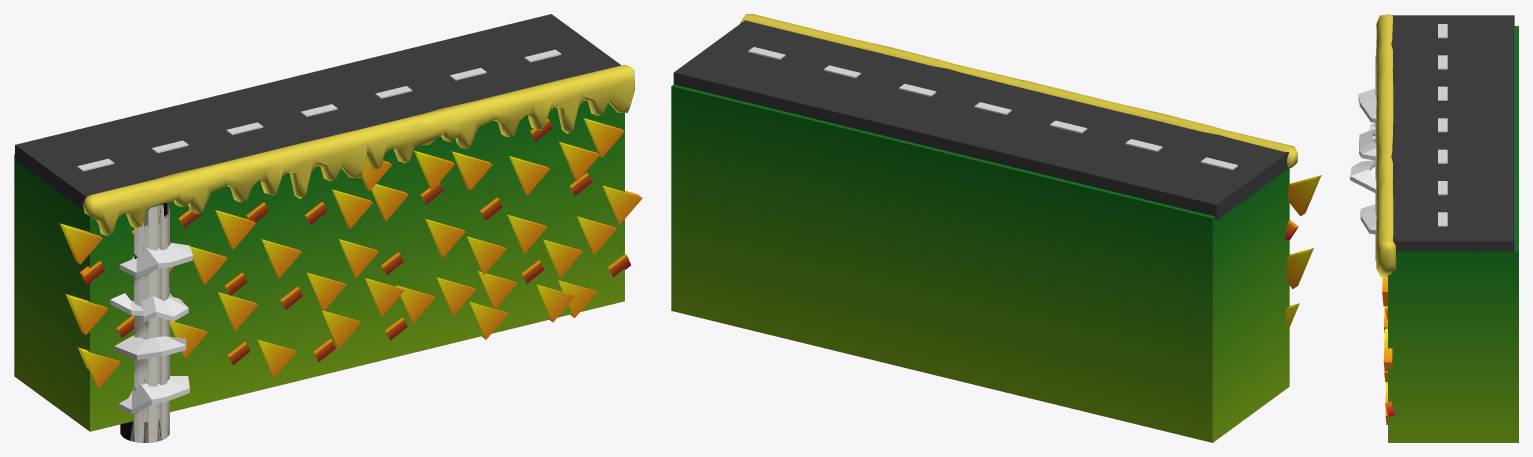
File: streetplate3.glb
3 renders of one model, left to right at view 1: azimuth 30°, elevation 25°; view 2: azimuth 150°, elevation 25°; view 3: azimuth 270°, elevation 25°, orthographic. The views are drawn at different scales.
Visible parts, largest first — view 1: street plate 1.003, street plate 1.005, street plate 1.001, street plate 1.006, street plate 1.002, street plate 1.004; view 2: street plate 1.003, street plate 1.005, street plate 1.001, street plate 1.006; view 3: street plate 1.005, street plate 1.003, street plate 1.001, street plate 1.006, street plate 1.002.
Part boxes in pixels (x1,y1,x2,y2): street plate 1.003: [14, 101, 624, 431]; street plate 1.005: [15, 14, 621, 210]; street plate 1.001: [77, 49, 634, 414]; street plate 1.006: [60, 118, 642, 388]; street plate 1.002: [120, 203, 169, 442]; street plate 1.004: [80, 118, 630, 364]; street plate 1.003: [671, 84, 1289, 442]; street plate 1.005: [673, 20, 1288, 220]; street plate 1.001: [740, 14, 1297, 170]; street plate 1.006: [1286, 175, 1321, 326]; street plate 1.005: [1391, 15, 1514, 252]; street plate 1.003: [1388, 26, 1518, 442]; street plate 1.001: [1350, 14, 1447, 277]; street plate 1.006: [1382, 277, 1392, 424]; street plate 1.002: [1375, 54, 1376, 261].
Bounding box in the file's own units: 54.34 × 22.91 × 15.89.
Materials: 5 (2 with a texture image).
